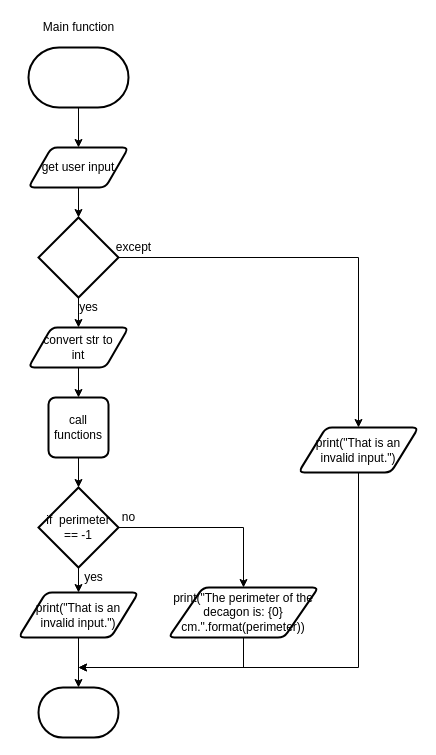
The diagram is 436 pixels wide and 755 high, and some of its shapes have lost their labels. The centre of each missing label's shape, as x and y in pixels:
start: the point at 78,77
stop: the point at 78,712
try: the point at 78,257
